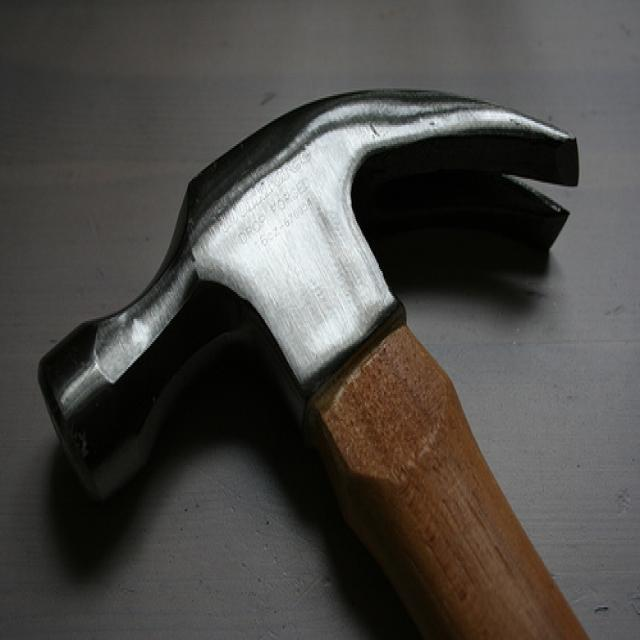hammer: (19, 9, 640, 640)
